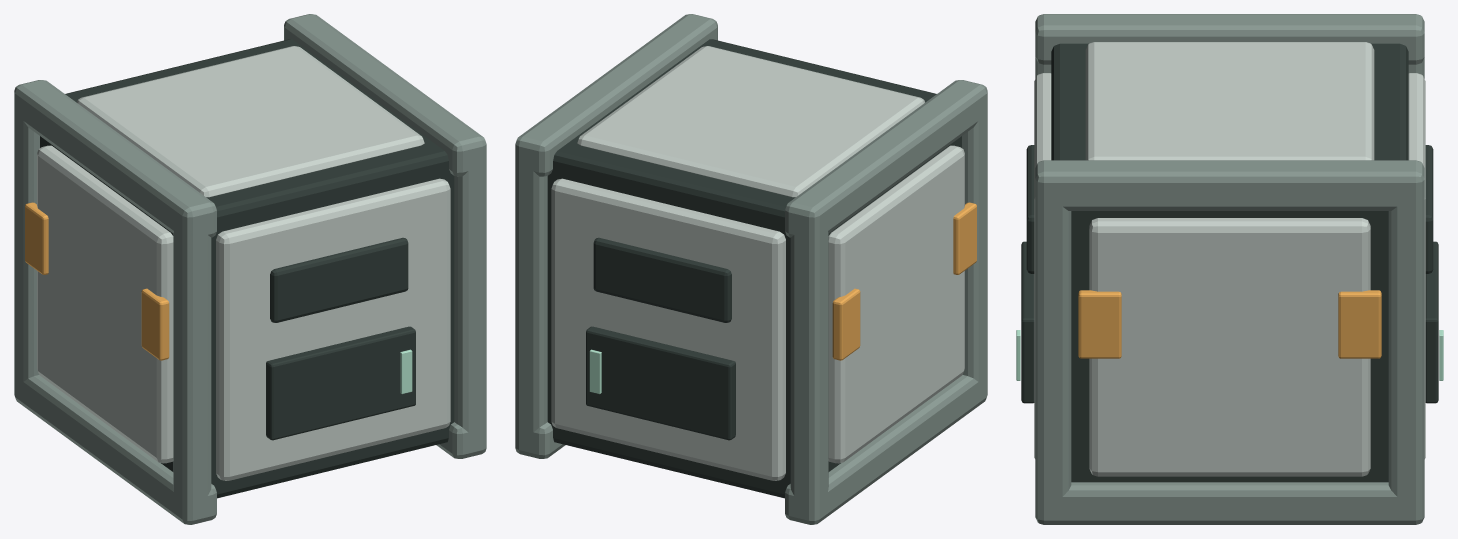
Rendered from 1-sbu.glb.
3 renders of one model, left to right at view 1: azimuth 30°, elevation 25°; view 2: azimuth 150°, elevation 25°; view 3: azimuth 270°, elevation 25°, orthographic. The views are drawn at different scales.
Visible parts, largest first — view 1: End panel.001, Side panel, Top inset, Armored body, Corner extrusion.001, Manifest plate.001, Stacking rail.001, Corner extrusion.003, Stacking rail.003, Recessed lifting grip.001, Stacking rail, Corner extrusion (+4 smaller); view 2: End panel, Side panel, Top inset, Armored body, Corner extrusion, Manifest plate, Stacking rail.001, Corner extrusion.002, Stacking rail.003, Recessed lifting grip, Stacking rail, Corner extrusion.001 (+4 smaller); view 3: Side panel.001, Top inset, Armored body, Stacking rail.003, Stacking rail.002, Corner extrusion.003, Corner extrusion.002, Stacking rail.001, Latch plate.002, Latch plate.003, End panel, End panel.001 (+4 smaller).
Part boxes in pixels (left/top/right/bottom): End panel.001: left=216, top=178, right=450, bottom=480; Side panel: left=37, top=145, right=173, bottom=463; Top inset: left=77, top=46, right=424, bottom=197; Armored body: left=40, top=39, right=454, bottom=498; Corner extrusion.001: left=173, top=197, right=211, bottom=524; Manifest plate.001: left=266, top=326, right=415, bottom=440; Stacking rail.001: left=23, top=80, right=216, bottom=237; Corner extrusion.003: left=454, top=130, right=486, bottom=457; Stacking rail.003: left=284, top=17, right=486, bottom=176; Recessed lifting grip.001: left=270, top=237, right=408, bottom=322; Stacking rail: left=23, top=375, right=216, bottom=524; Corner extrusion: left=14, top=81, right=44, bottom=407; End panel: left=551, top=178, right=785, bottom=480; Side panel: left=828, top=145, right=964, bottom=463; Top inset: left=577, top=46, right=924, bottom=197; Armored body: left=547, top=39, right=961, bottom=498; Corner extrusion: left=790, top=197, right=828, bottom=524; Manifest plate: left=586, top=326, right=735, bottom=440; Stacking rail.001: left=785, top=80, right=983, bottom=238; Corner extrusion.002: left=515, top=130, right=547, bottom=457; Stacking rail.003: left=515, top=17, right=717, bottom=176; Recessed lifting grip: left=593, top=237, right=731, bottom=322; Stacking rail: left=785, top=375, right=985, bottom=524; Corner extrusion.001: left=957, top=81, right=987, bottom=404; Side panel.001: left=1089, top=218, right=1370, bottom=476; Top inset: left=1085, top=42, right=1374, bottom=160; Armored body: left=1051, top=43, right=1408, bottom=482; Stacking rail.003: left=1035, top=160, right=1424, bottom=210; Stacking rail.002: left=1035, top=482, right=1424, bottom=524; Corner extrusion.003: left=1035, top=163, right=1071, bottom=524; Corner extrusion.002: left=1388, top=163, right=1424, bottom=524; Stacking rail.001: left=1035, top=14, right=1424, bottom=64; Latch plate.002: left=1338, top=290, right=1381, bottom=358; Latch plate.003: left=1078, top=290, right=1121, bottom=358; End panel: left=1408, top=73, right=1425, bottom=458; End panel.001: left=1034, top=73, right=1051, bottom=458.
Size of the model in its own units: 0.564 by 0.54 by 0.592.
